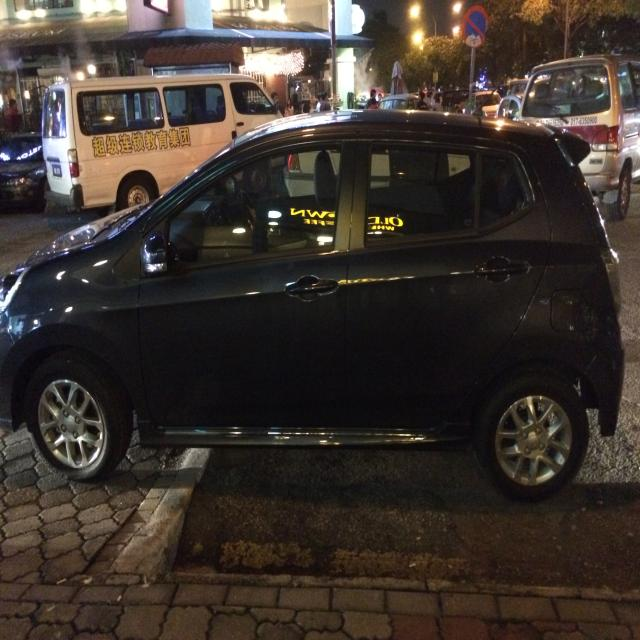Car: (26, 147, 624, 507), (515, 30, 640, 231)
